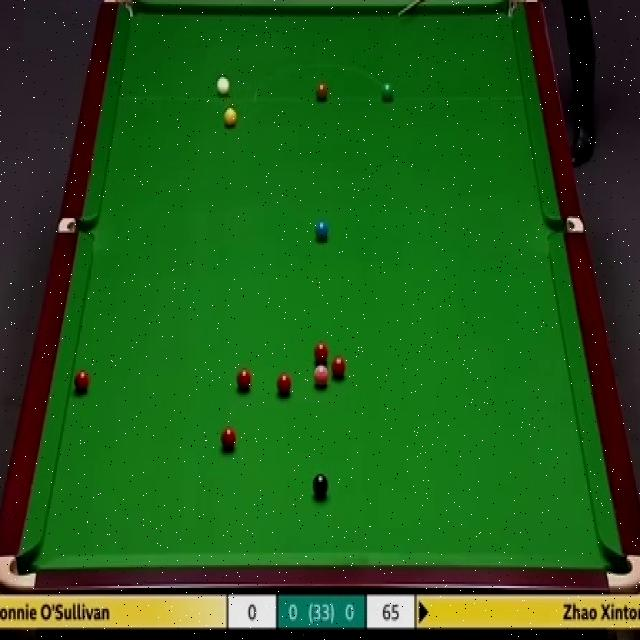black-ball: (312, 472, 330, 500)
blue-ball: (314, 218, 329, 242)
brown-ball: (315, 82, 328, 102)
green-ball: (381, 80, 394, 104)
pink-ball: (314, 363, 330, 388)
red-ball: (276, 372, 293, 400), (220, 426, 238, 452), (331, 356, 349, 382), (237, 366, 253, 395), (74, 368, 90, 395), (314, 339, 329, 366)
white-ball: (216, 74, 230, 97)
yellow-ball: (224, 106, 237, 127)
